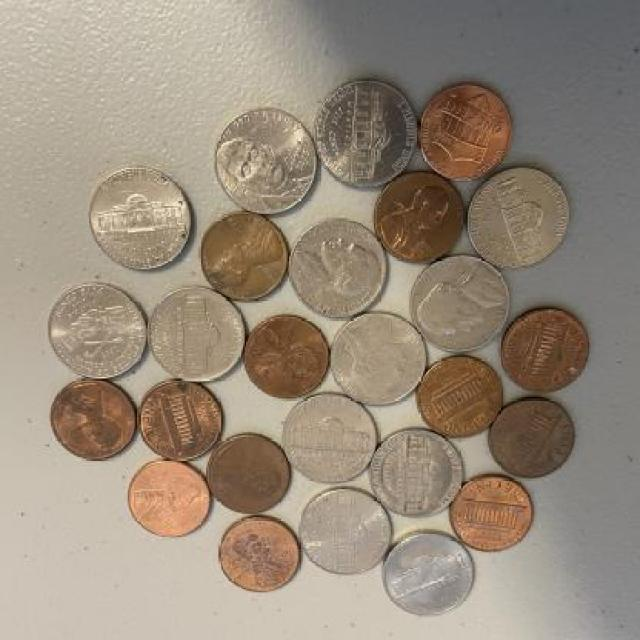Nickel: (212, 104, 317, 218), (314, 78, 418, 190), (86, 168, 192, 272), (466, 168, 571, 272), (410, 254, 512, 356), (44, 283, 148, 382), (288, 224, 390, 318), (330, 312, 428, 408), (282, 394, 381, 486), (149, 290, 245, 384), (380, 530, 476, 618), (369, 429, 463, 518), (298, 488, 391, 576)
Penny: (420, 82, 516, 184), (374, 173, 466, 264), (500, 308, 592, 396), (243, 314, 332, 402), (202, 214, 290, 303), (48, 377, 138, 463), (486, 397, 576, 480), (414, 356, 504, 438), (137, 380, 223, 465), (216, 512, 302, 592), (208, 434, 290, 517), (448, 477, 534, 554), (128, 463, 214, 540)
